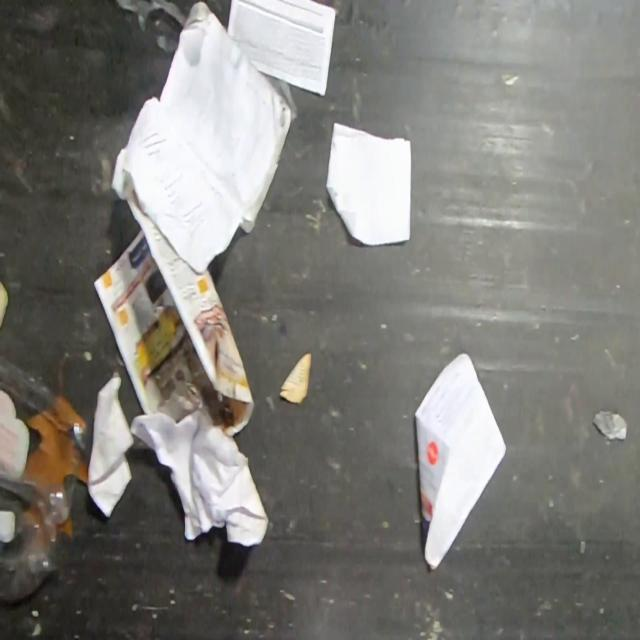rigid_plastic: (0, 353, 94, 607)
